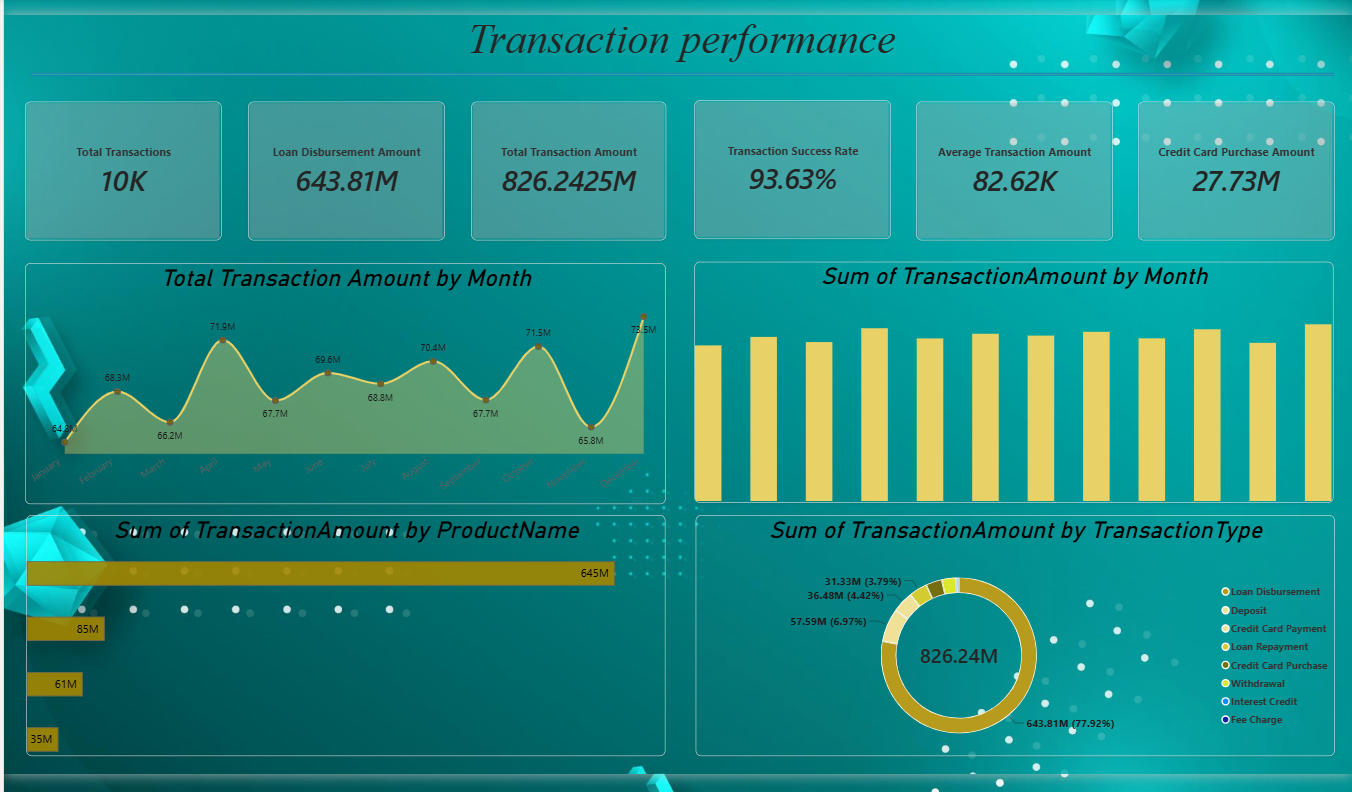

The dashboard page shown, as its layout file describes it:
{"tool":"powerbi","page":{"name":"Transaction performance","canvas":[1920,1080],"ordinal":0},"visuals":[{"type":"cardVisual","fields":{"Data":["Measures 1.Total Transaction Amount"]},"box":[664.6,123.6,277.6,197],"z":0},{"type":"cardVisual","fields":{"Data":["Measures 1.Total Transactions"]},"box":[30,123.6,279.9,197],"z":1000},{"type":"cardVisual","fields":{"Data":["Measures 1.Average Transaction Amount"]},"box":[1297.4,123.6,279.9,197],"z":2000},{"type":"cardVisual","fields":{"Data":["Measures 1.Credit Card Purchase Amount"]},"box":[1611.9,123.6,279.9,197],"z":3000},{"type":"cardVisual","fields":{"Data":["Measures 1.Transaction Success Rate"]},"box":[981,121.7,279.9,197],"z":4000},{"type":"cardVisual","fields":{"Data":["Measures 1.Loan Disbursement Amount"]},"box":[346.3,123.6,279.9,197],"z":5000},{"type":"lineChart","fields":{"Category":["Combined_Transactions1.FullDate.Variation.Date Hierarchy.Month"],"Y":["Measures 1.Total Transaction Amount"]},"box":[30,352,911.2,342.6],"z":6000},{"type":"clusteredColumnChart","fields":{"Category":["Combined_Transactions1.FullDate.Variation.Date Hierarchy.Month"],"Y":["Sum(Combined_Transactions1.TransactionAmount)"]},"box":[981,350.1,909,342.6],"z":7000},{"type":"donutChart","fields":{"Category":["Combined_Transactions1.TransactionType"],"Y":["Sum(Combined_Transactions1.TransactionAmount)"]},"box":[982.9,711.4,909,342.6],"z":8000},{"type":"barChart","fields":{"Category":["Combined_Transactions1.ProductName"],"Y":["Sum(Combined_Transactions1.TransactionAmount)"]},"box":[31.8,711.4,909,342.6],"z":9000},{"type":"shape","title":"Transaction performance","box":[37.4,0,1853.4,86.1],"z":9001}]}

Visuals, with their boxes on the page's 1920x1080 design canvas (x1, y1, x2, y2). These are canvas units, not pixel positions in the 1352x792 screenshot, which may show the page scaled, cropped or inside an application window:
cardVisual - Measures 1.Total Transaction Amount: [x1=665, y1=124, x2=942, y2=321]
cardVisual - Measures 1.Total Transactions: [x1=30, y1=124, x2=310, y2=321]
cardVisual - Measures 1.Average Transaction Amount: [x1=1297, y1=124, x2=1577, y2=321]
cardVisual - Measures 1.Credit Card Purchase Amount: [x1=1612, y1=124, x2=1892, y2=321]
cardVisual - Measures 1.Transaction Success Rate: [x1=981, y1=122, x2=1261, y2=319]
cardVisual - Measures 1.Loan Disbursement Amount: [x1=346, y1=124, x2=626, y2=321]
lineChart - Combined_Transactions1.FullDate.Variation.Date Hierarchy.Month x Measures 1.Total Transaction Amount: [x1=30, y1=352, x2=941, y2=695]
clusteredColumnChart - Combined_Transactions1.FullDate.Variation.Date Hierarchy.Month x Sum(Combined_Transactions1.TransactionAmount): [x1=981, y1=350, x2=1890, y2=693]
donutChart - Combined_Transactions1.TransactionType x Sum(Combined_Transactions1.TransactionAmount): [x1=983, y1=711, x2=1892, y2=1054]
barChart - Combined_Transactions1.ProductName x Sum(Combined_Transactions1.TransactionAmount): [x1=32, y1=711, x2=941, y2=1054]
"Transaction performance" shape: [x1=37, y1=0, x2=1891, y2=86]
